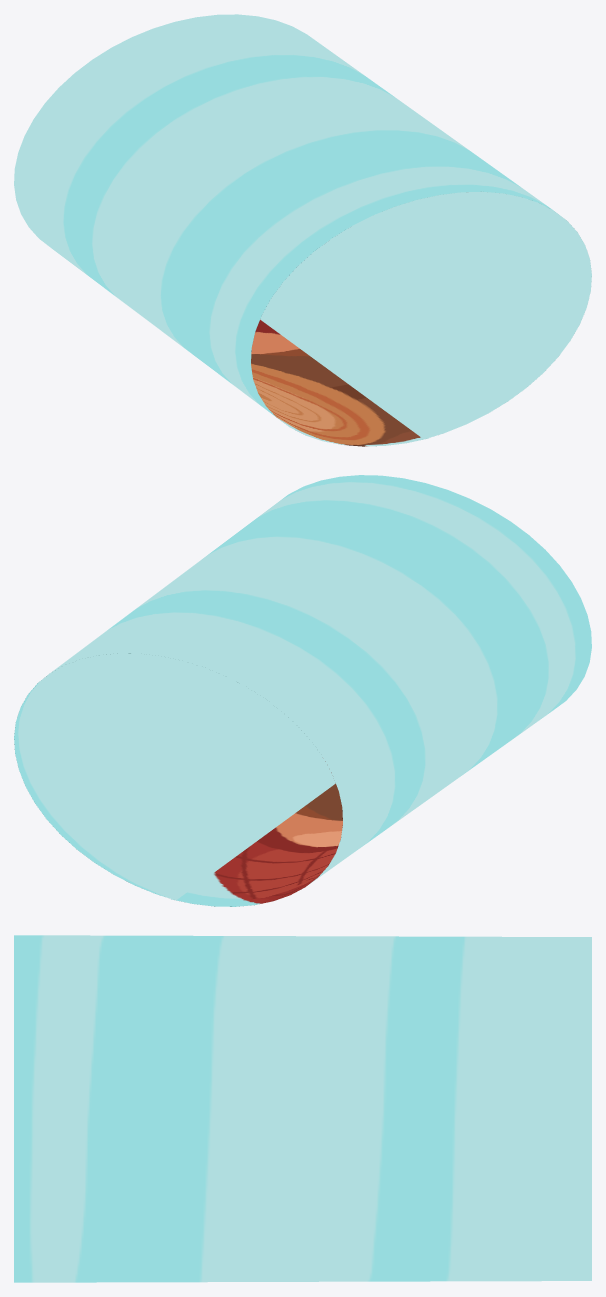
The model's file is Level 97.fbx.
3 renders of one model, top to bottom at view 1: azimuth 30°, elevation 25°; view 2: azimuth 150°, elevation 25°; view 3: azimuth 270°, elevation 25°, orthographic. The views are drawn at different scales.
Parts seen in each view (by area): view 1: spool; view 2: spool; view 3: spool.
Part boxes in pixels (left/top/right/bottom): spool: left=14, top=14, right=591, bottom=446; spool: left=14, top=475, right=591, bottom=906; spool: left=14, top=935, right=591, bottom=1282.
Size of what is drawn, in the model's own units: 713 by 483 by 880.
